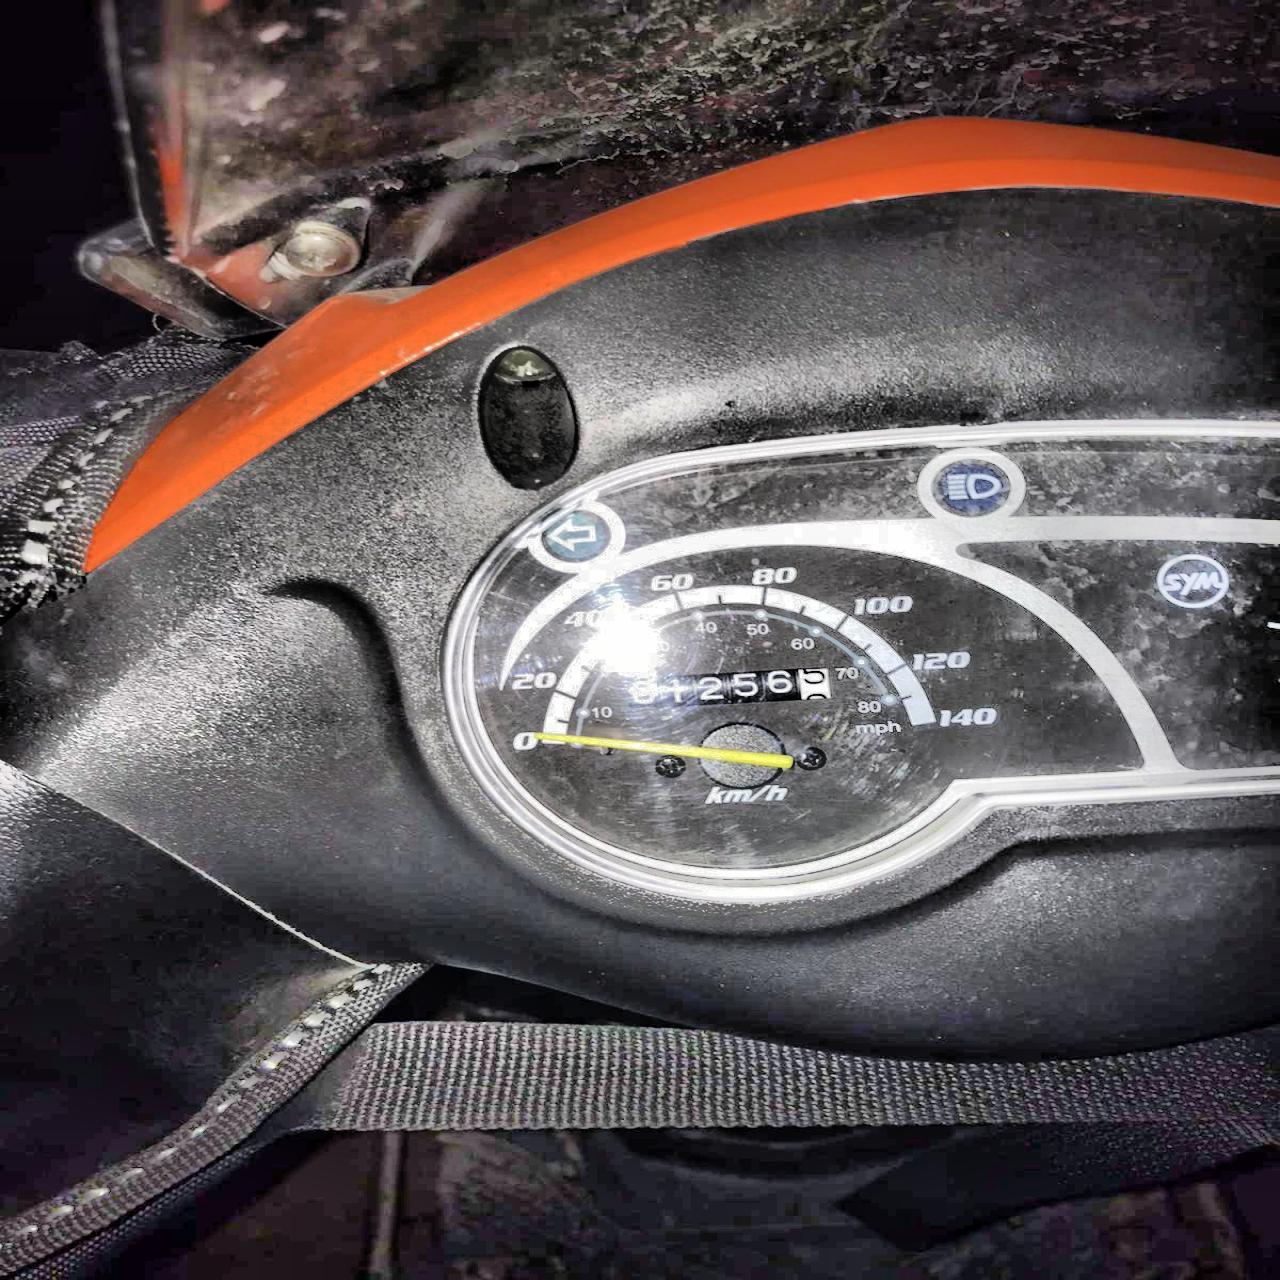0: (624, 675, 654, 710)
1: (663, 672, 686, 709)
2: (694, 673, 724, 707)
5: (729, 669, 758, 700), (799, 666, 830, 688)
6: (767, 667, 792, 697)
odometer: (615, 665, 836, 714)
